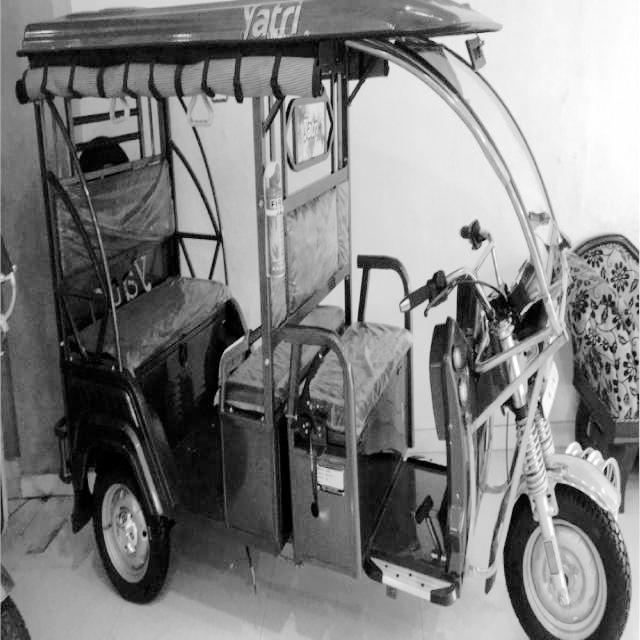Toto: (12, 0, 623, 640)
